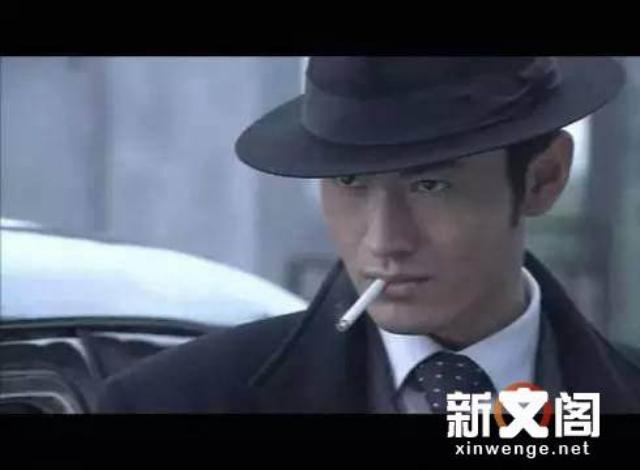SafeDriving: (402, 167, 461, 199), (318, 162, 374, 192)
Smoking: (332, 271, 391, 337)
